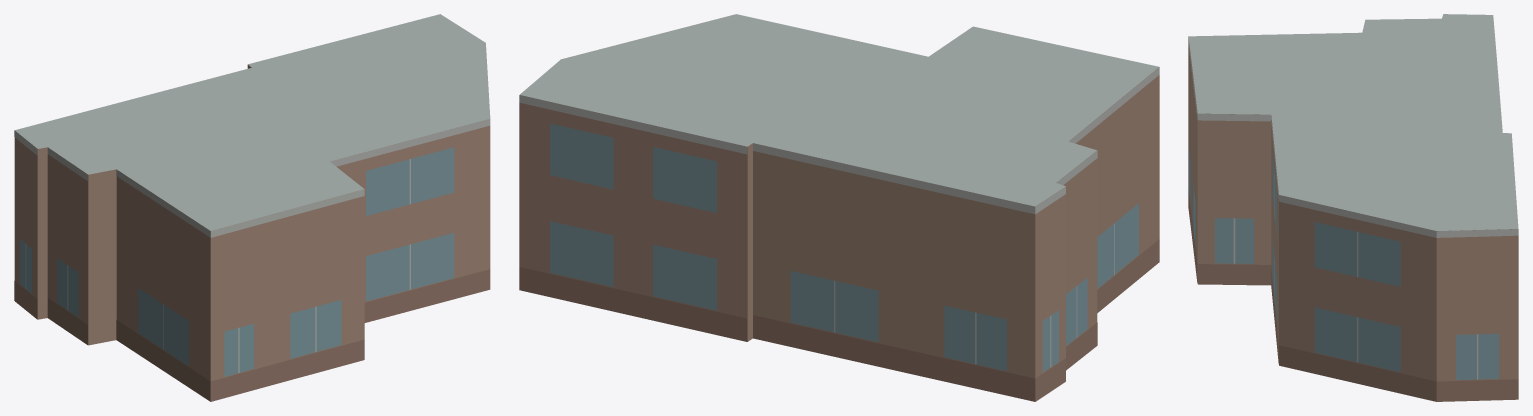
File: survey-upis-32661584.glb
The picture shows the model from 3 angles, left to right: view 1: azimuth 30°, elevation 25°; view 2: azimuth 150°, elevation 25°; view 3: azimuth 270°, elevation 25°; orthographic projection. The views are drawn at different scales.
Visible parts, largest first — view 1: survey-upis-32661584.tmp; view 2: survey-upis-32661584.tmp; view 3: survey-upis-32661584.tmp.
Boxes of the visible parts, box(x1,y1,x2,y2) form: survey-upis-32661584.tmp: box(14, 14, 490, 401); survey-upis-32661584.tmp: box(519, 14, 1159, 401); survey-upis-32661584.tmp: box(1188, 14, 1518, 401).
Size of the model in its own units: 16.64 by 6.1 by 10.7.
